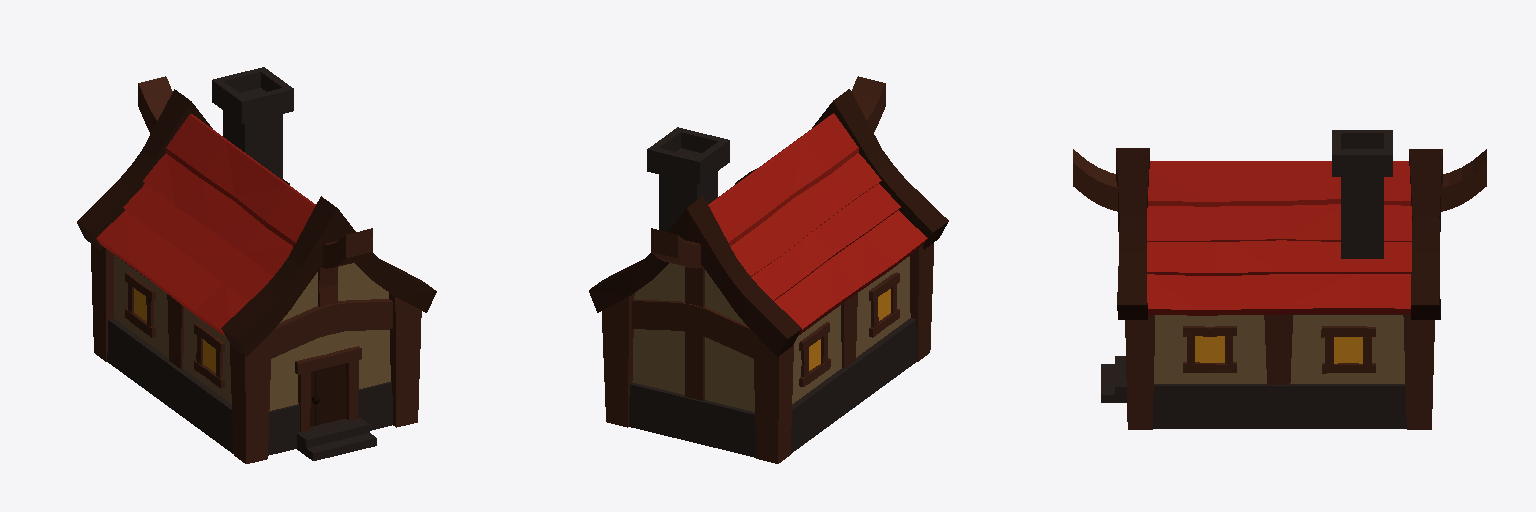
File: myHouse1.obj
3 views of the same model, side by side, from view 1: azimuth 30°, elevation 25°; view 2: azimuth 150°, elevation 25°; view 3: azimuth 270°, elevation 25° (orthographic).
Visible parts, largest first — view 1: House_Cube.063; view 2: House_Cube.063; view 3: House_Cube.063.
Boxes of the visible parts, <box> form: House_Cube.063: <box>77,67,436,463</box>; House_Cube.063: <box>589,76,948,463</box>; House_Cube.063: <box>1073,130,1486,429</box>.
Bounding box in the file's own units: 66.7 × 84.36 × 120.